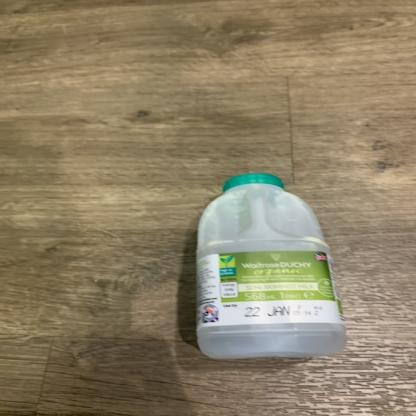trash: (196, 172, 352, 364)
